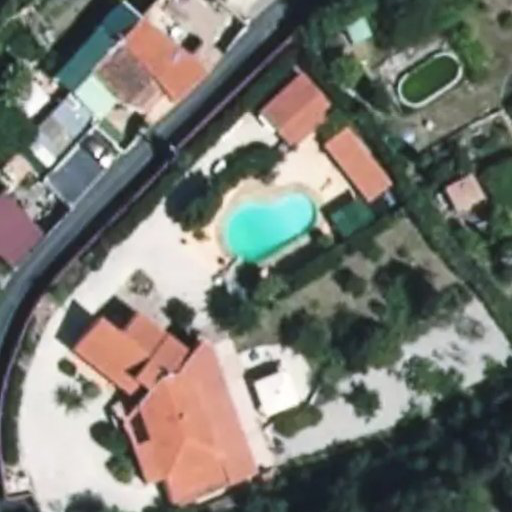pool: (203, 239, 310, 252)
